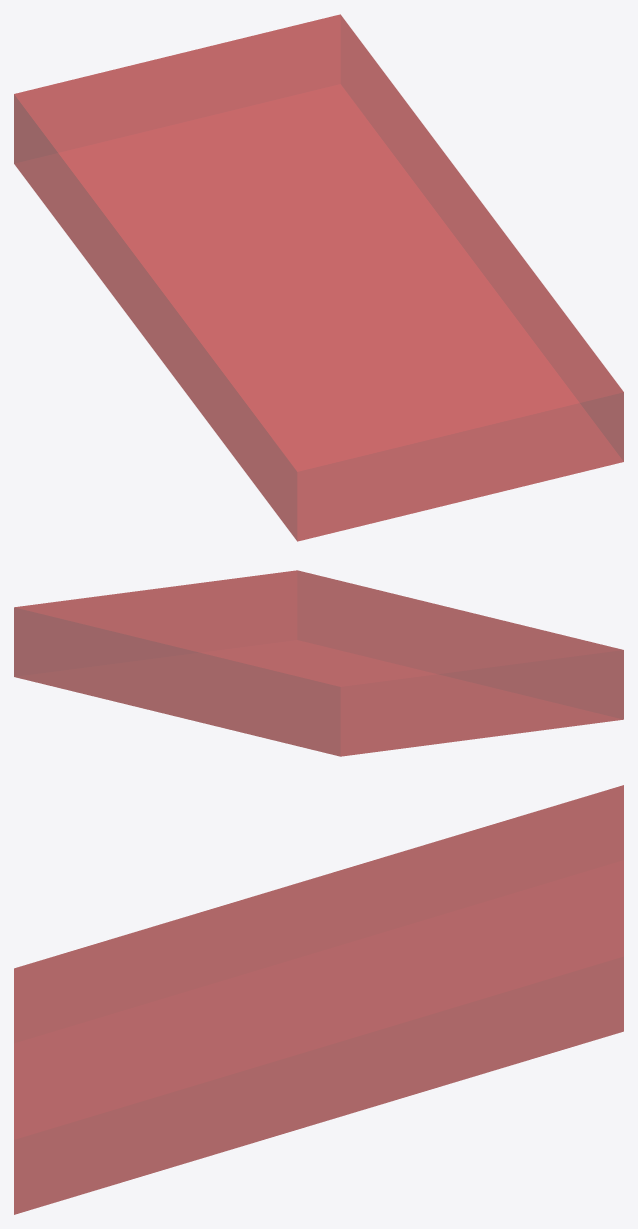
File: SM_Env_Motorway_Ramp_Middle_02_Collision.fbx
The picture shows the model from 3 angles, top to bottom: view 1: azimuth 30°, elevation 25°; view 2: azimuth 150°, elevation 25°; view 3: azimuth 270°, elevation 25°; orthographic projection. The views are drawn at different scales.
Visible parts, largest first — view 1: SM_Env_Motorway_Ramp_Middle_02_Collision; view 2: SM_Env_Motorway_Ramp_Middle_02_Collision; view 3: SM_Env_Motorway_Ramp_Middle_02_Collision.
Part boxes in pixels (bbox=[...]): SM_Env_Motorway_Ramp_Middle_02_Collision: bbox=[14, 14, 623, 541]; SM_Env_Motorway_Ramp_Middle_02_Collision: bbox=[14, 570, 623, 756]; SM_Env_Motorway_Ramp_Middle_02_Collision: bbox=[14, 785, 623, 1214].
Bounding box in the file's own units: 500 × 351 × 752.
